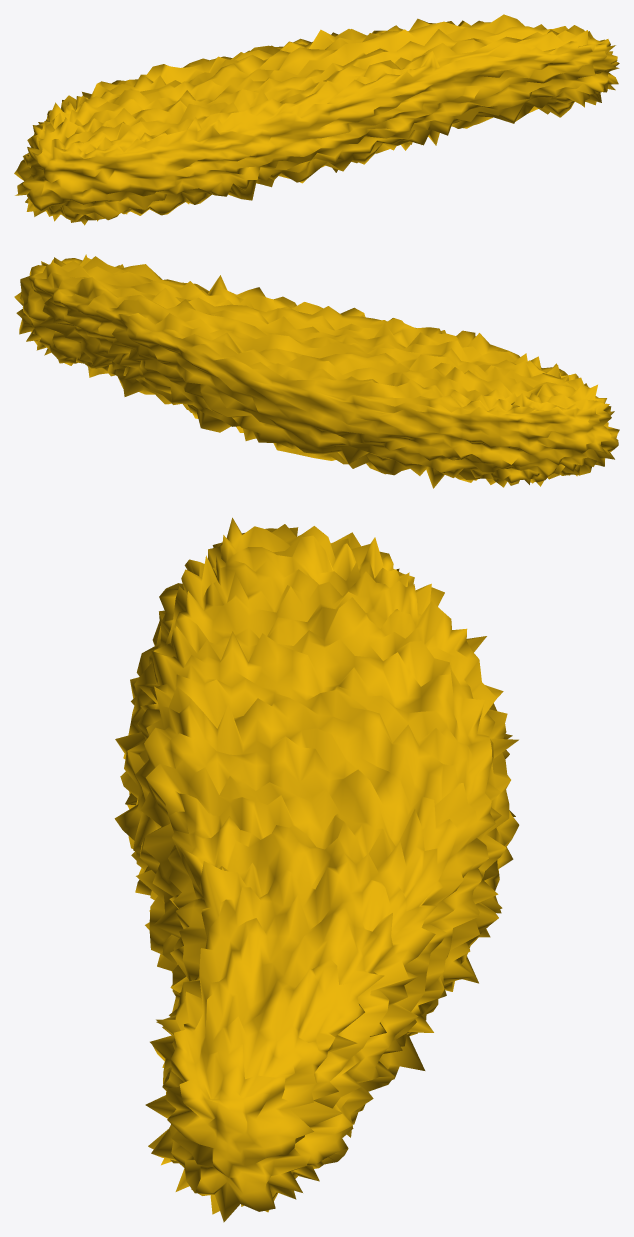
File: ささみ.fbx
3 renders of one model, top to bottom at view 1: azimuth 30°, elevation 25°; view 2: azimuth 150°, elevation 25°; view 3: azimuth 270°, elevation 25°, orthographic. The views are drawn at different scales.
Visible parts, largest first — view 1: 平面.007; view 2: 平面.007; view 3: 平面.007.
Part boxes in pixels (x1,y1,x2,y2): 平面.007: (14, 14, 619, 225); 平面.007: (14, 254, 619, 488); 平面.007: (114, 517, 519, 1222).
Size of the model in its own units: 2.82 by 0.4528 by 0.8403.
